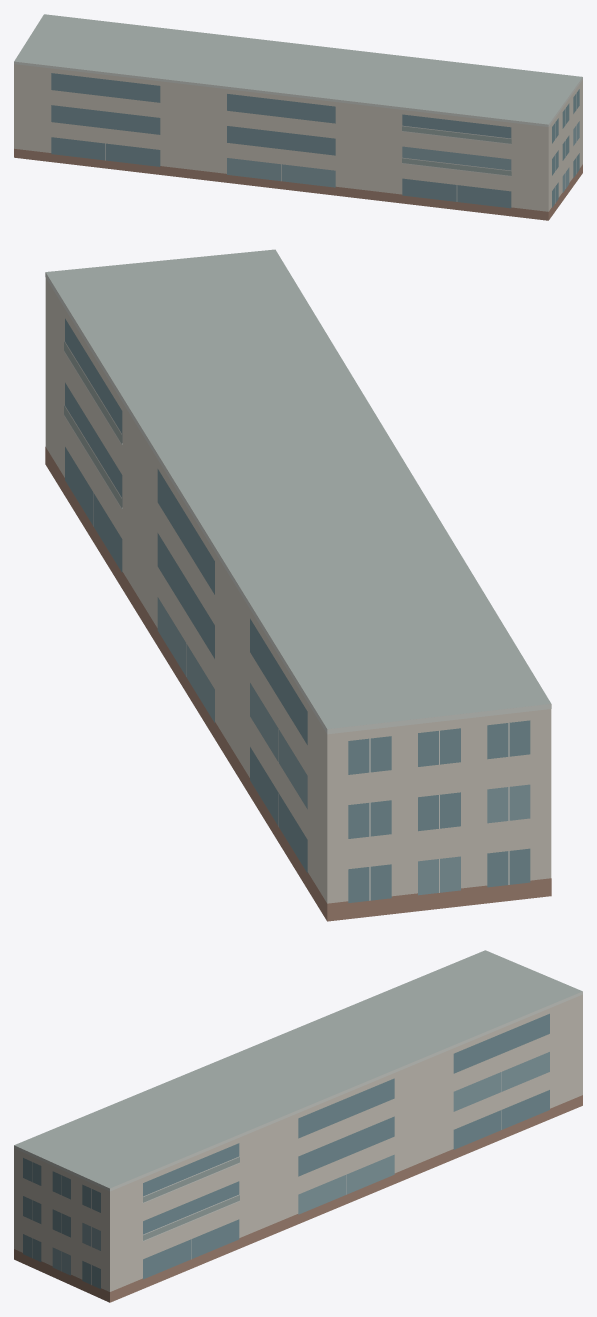
Rendered from survey-upis-32626579.glb.
The picture shows the model from 3 angles, top to bottom: view 1: azimuth 30°, elevation 25°; view 2: azimuth 150°, elevation 25°; view 3: azimuth 270°, elevation 25°; orthographic projection. The views are drawn at different scales.
Parts seen in each view (by area): view 1: survey-upis-32626579.tmp; view 2: survey-upis-32626579.tmp; view 3: survey-upis-32626579.tmp.
Part boxes in pixels (left/top/right/bottom): survey-upis-32626579.tmp: left=14, top=14, right=582, bottom=220; survey-upis-32626579.tmp: left=45, top=249, right=551, bottom=921; survey-upis-32626579.tmp: left=14, top=950, right=582, bottom=1302.
Size of the model in its own units: 40.94 by 9.15 by 41.29.
